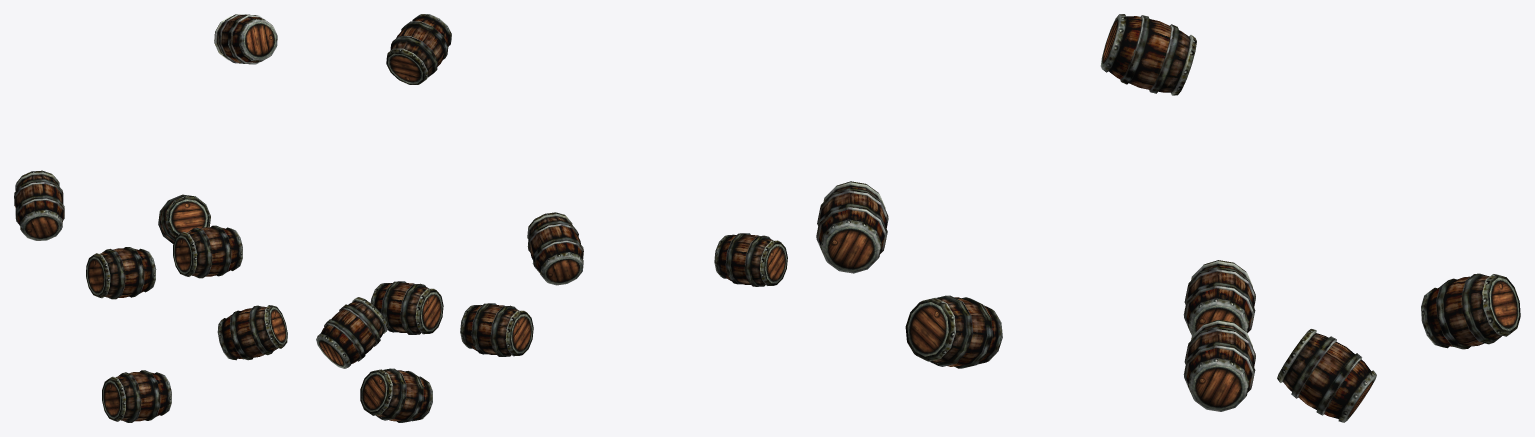
File: PUSH8_BARRELS.fbx
The picture shows the model from 3 angles, left to right: view 1: azimuth 30°, elevation 25°; view 2: azimuth 150°, elevation 25°; view 3: azimuth 270°, elevation 25°; orthographic projection. The views are drawn at different scales.
Parts seen in each view (by area): view 1: PUSH8_BARRELS; view 2: PUSH8_BARRELS; view 3: PUSH8_BARRELS.
Part boxes in pixels (box(x1,y1,x2,y2)): PUSH8_BARRELS: box(14, 14, 287, 422); PUSH8_BARRELS: box(316, 14, 787, 422); PUSH8_BARRELS: box(816, 14, 1520, 422).
Size of the model in its own units: 47619 by 48190 by 77162.
Materials: 2 (2 with a texture image).
